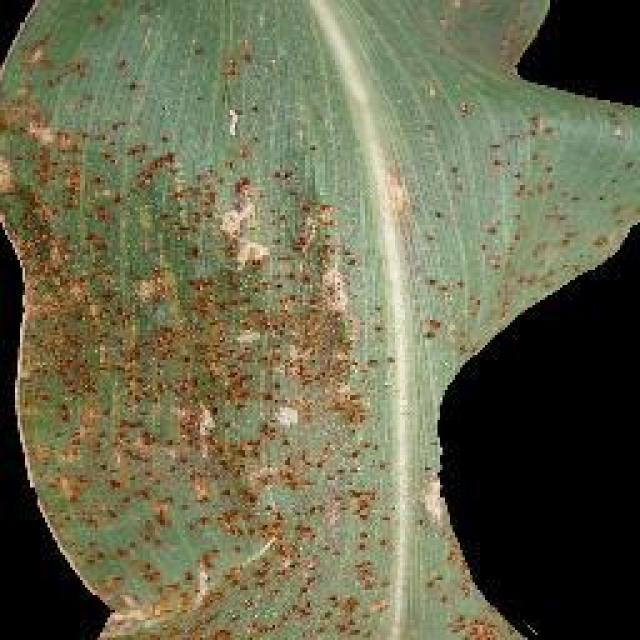Corn Common Rust: (183, 44, 425, 624)
